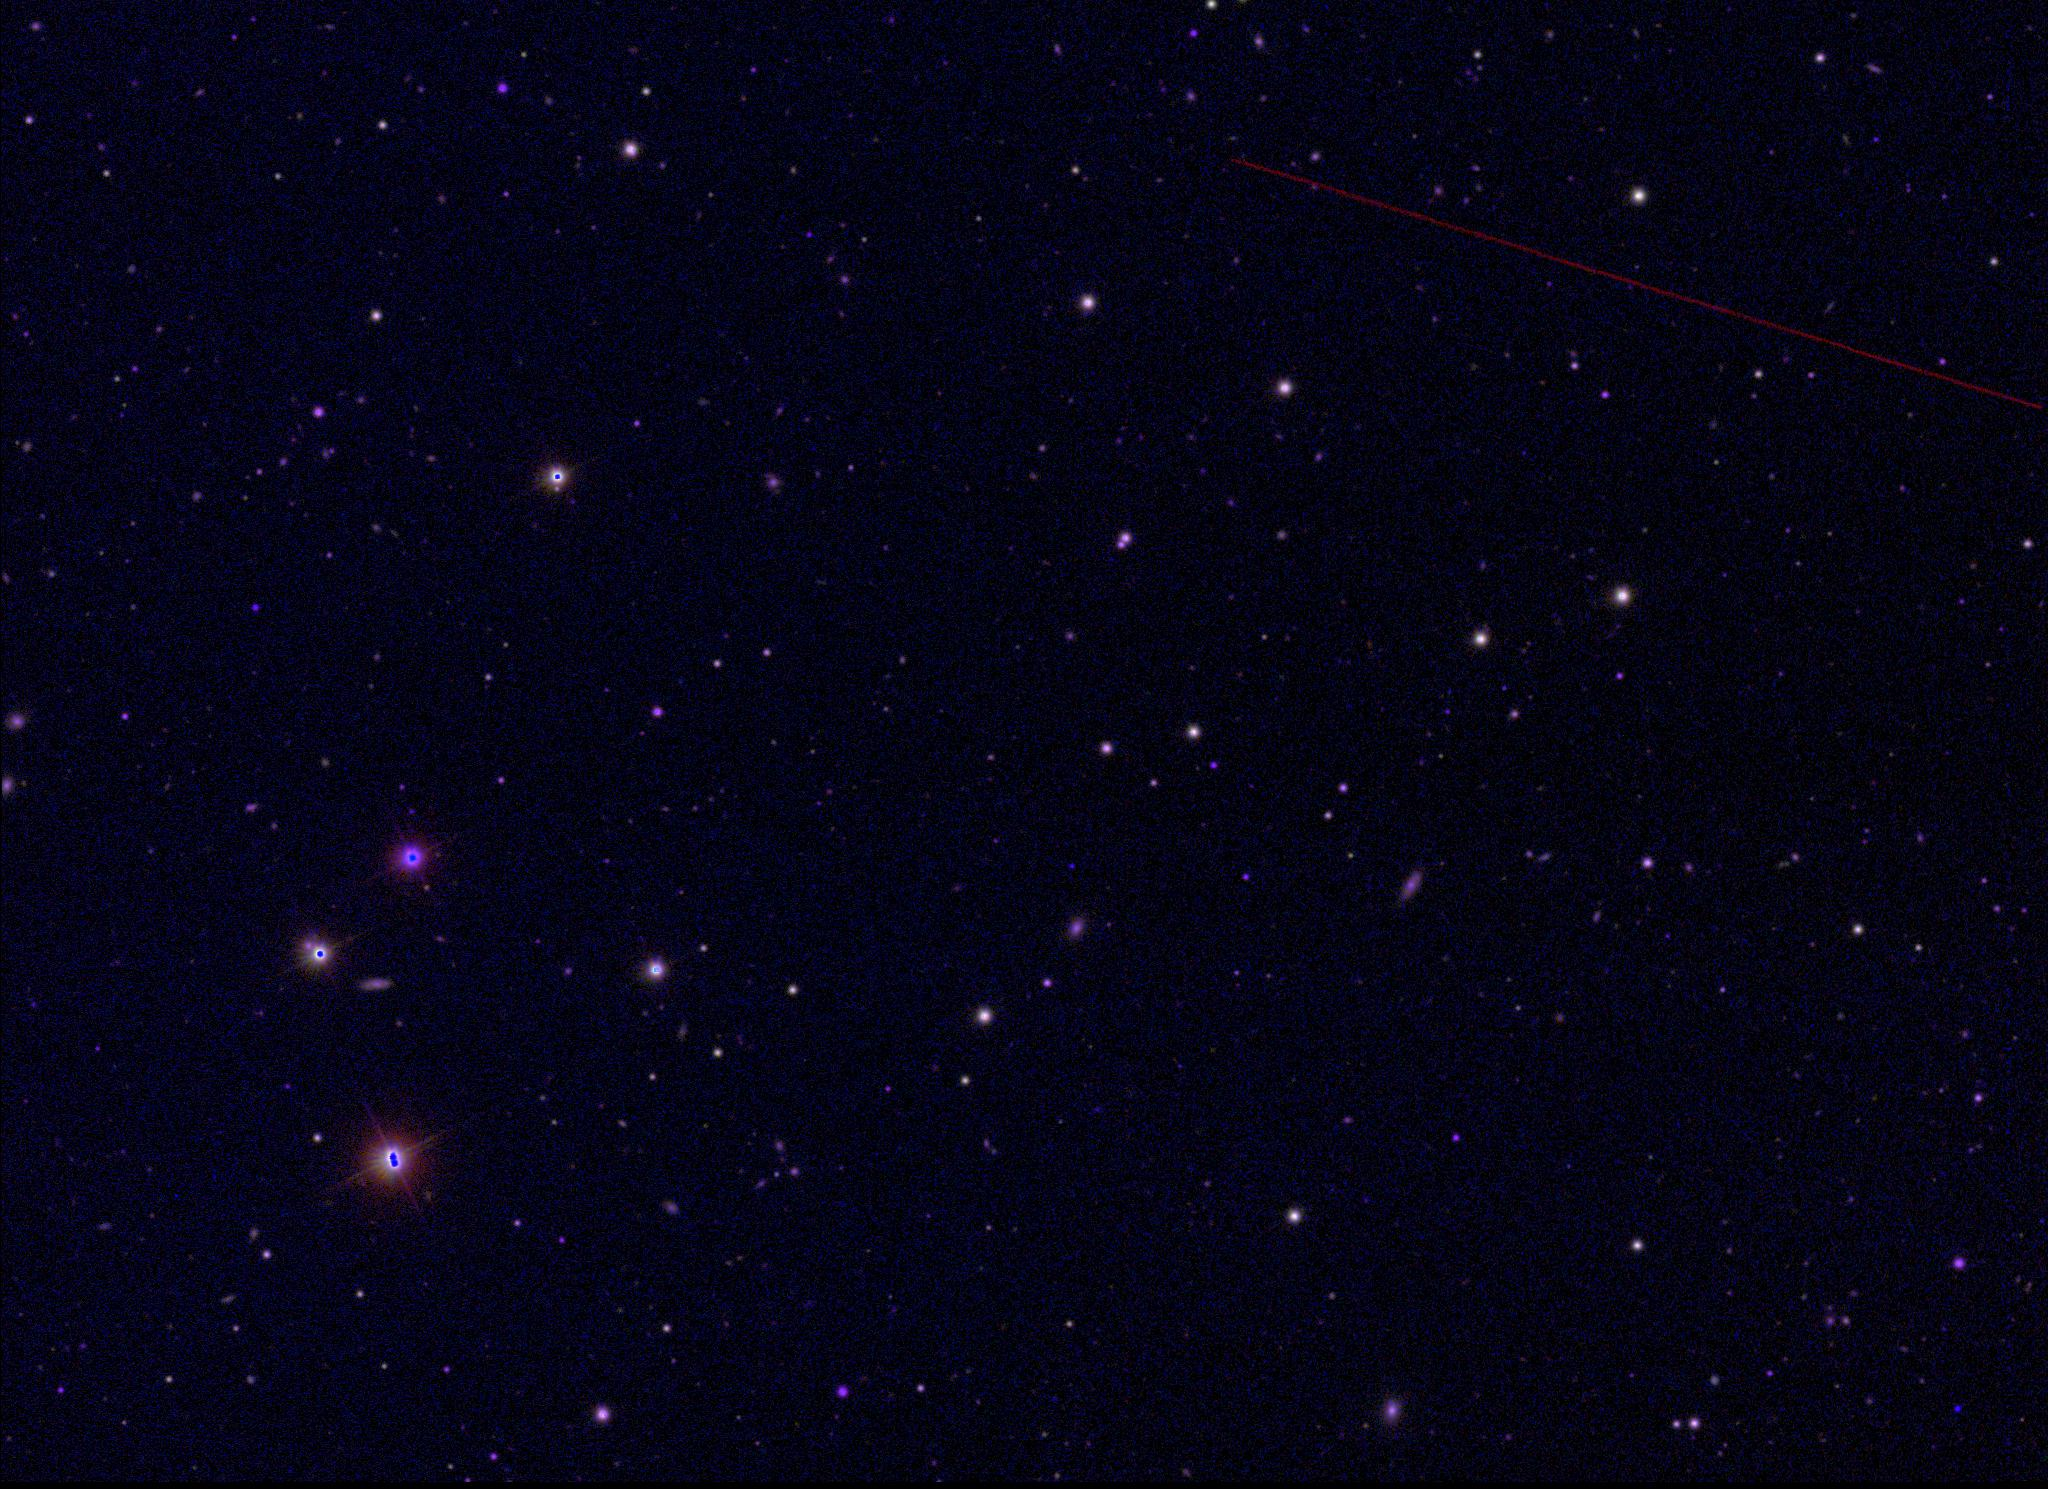L: (1949, 1402, 1964, 1416)
